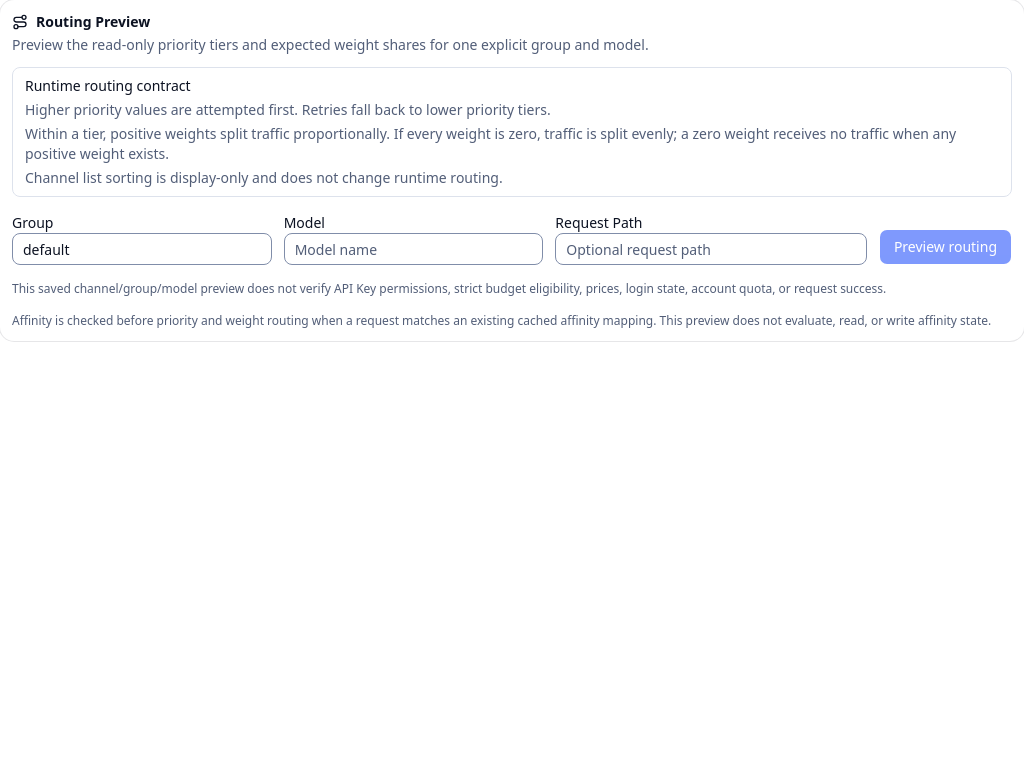
Test: account scheduling preview › a failed refresh clears scheduling and exclusion evidence from the old snapshot
The image size is (1024, 757).
Type "public-model" into the field named "Routing preview model" at (413, 249), box [284,233,543,265]
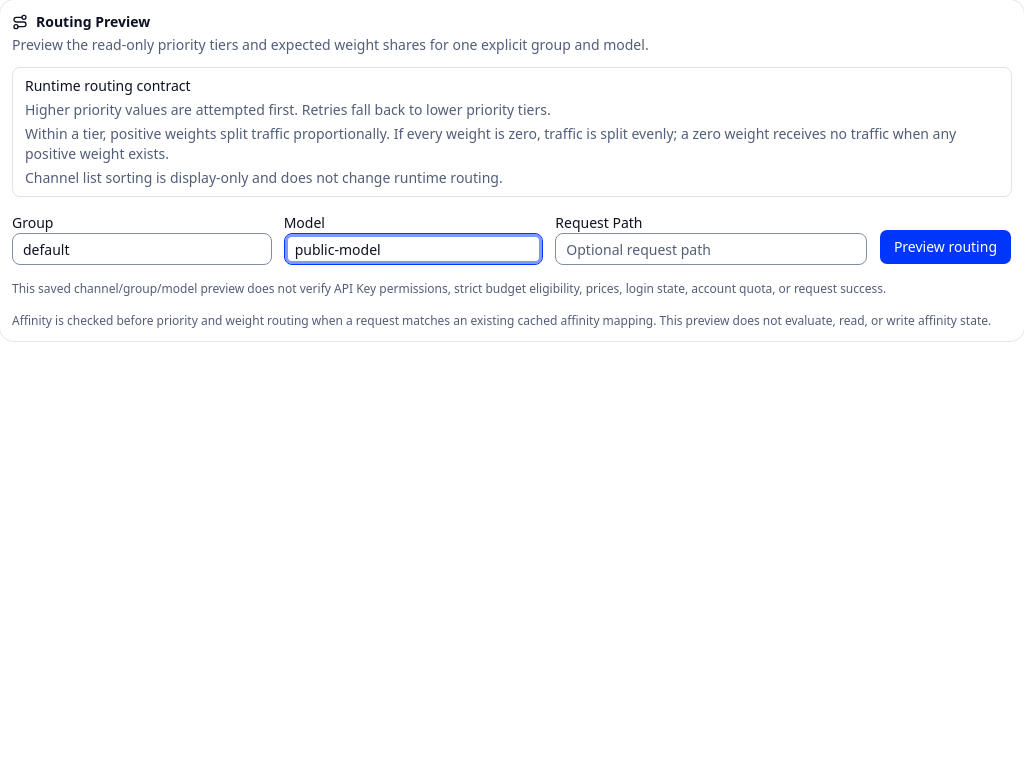
Click the button "Preview routing" at (945, 247), box [879,229,1012,265]
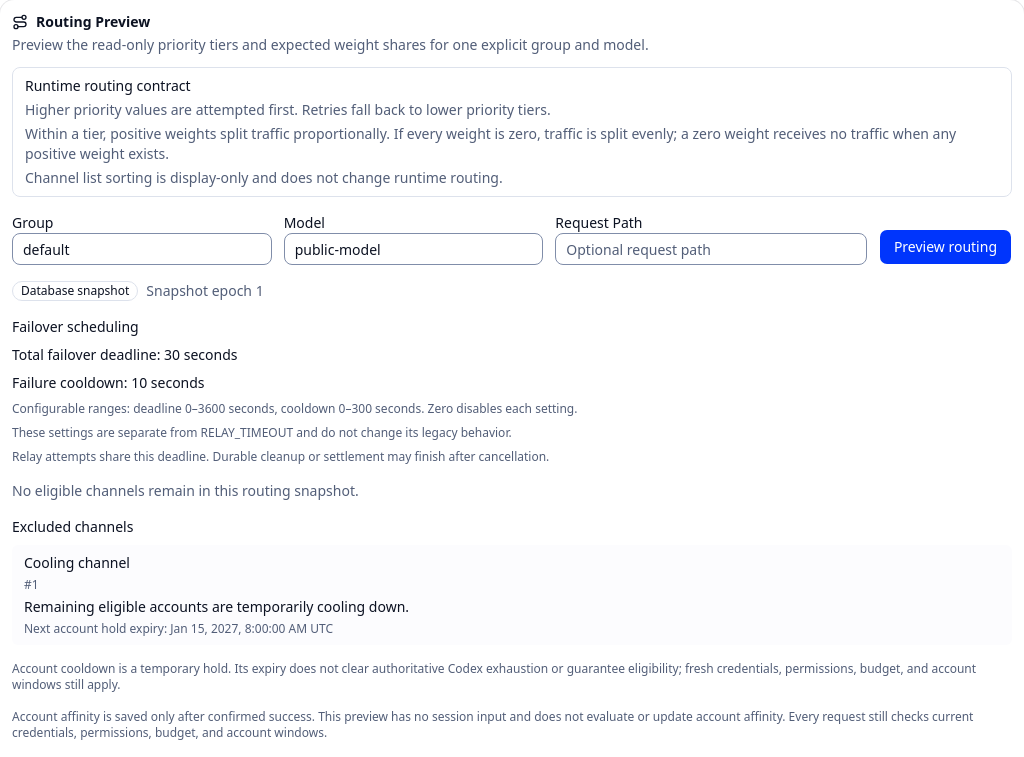
Now the element "Failover scheduling" is shown, box [12,317,577,465]
Click the button "Preview routing" at (945, 247), box [879,229,1012,265]
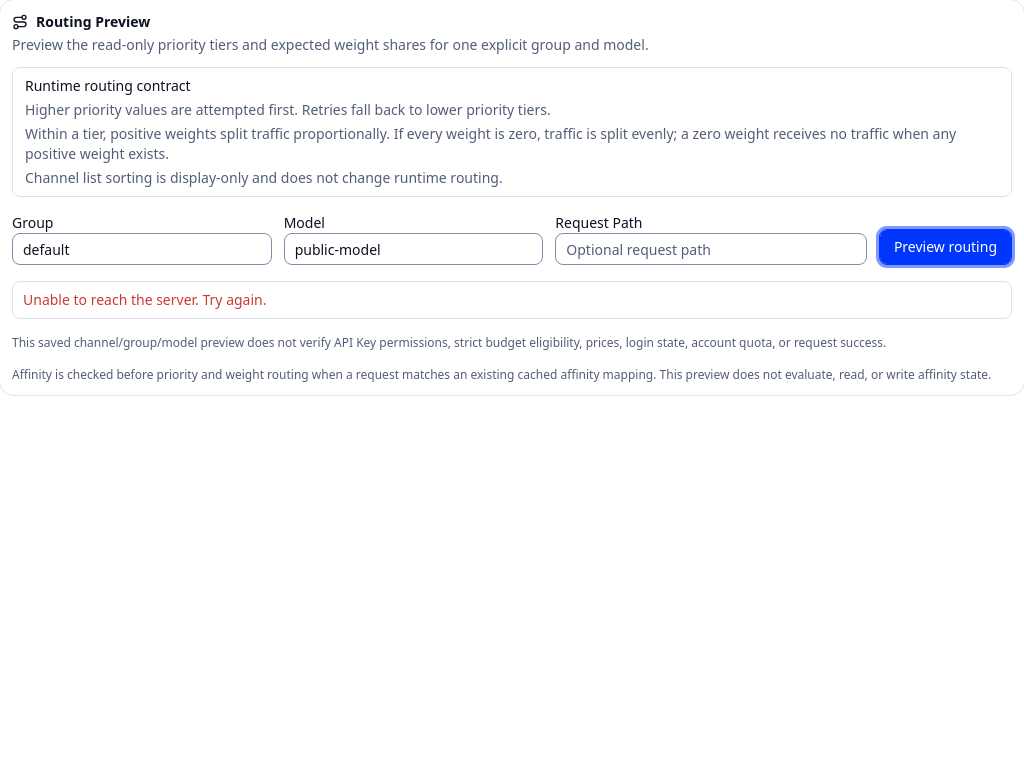
Now the text "Unable to reach the server. Try again." is shown, box [23,290,266,309]
Now the heading "Failover scheduling" is gone
Now the heading "Excluded channels" is gone
